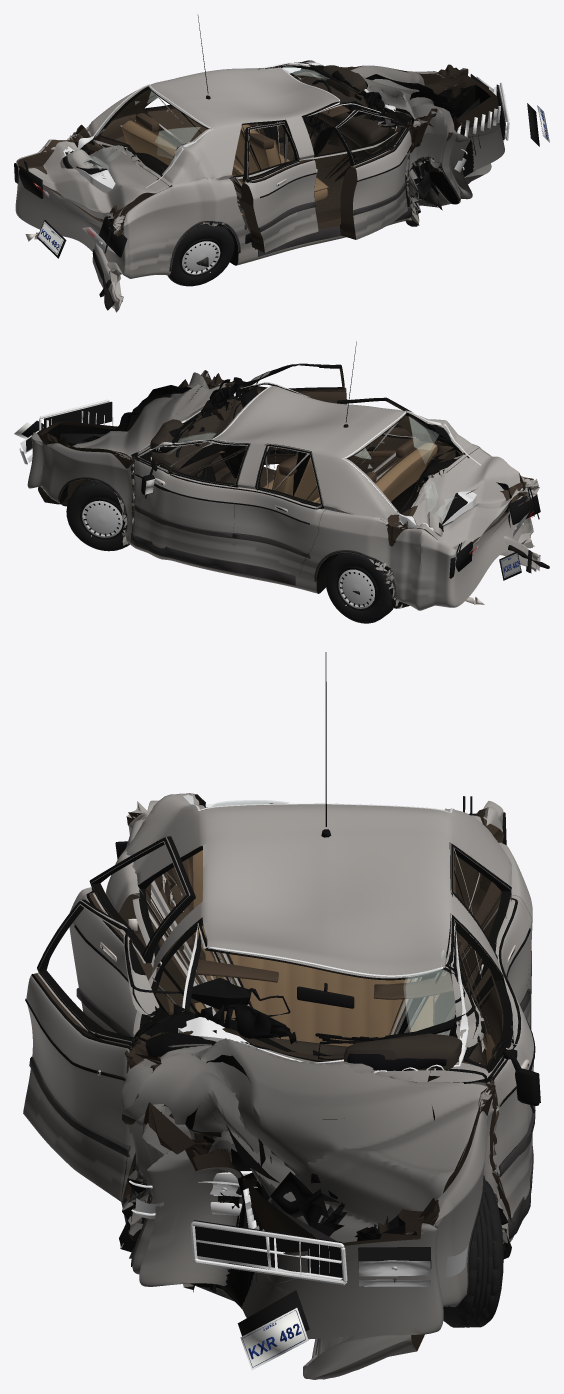
File: sedan87_front_corner_R_d3_lod1.glb
The picture shows the model from 3 angles, top to bottom: view 1: azimuth 30°, elevation 25°; view 2: azimuth 150°, elevation 25°; view 3: azimuth 270°, elevation 25°; orthographic projection. The views are drawn at different scales.
Visible parts, largest first — view 1: Body, Interior, Door_FR, Door_RR, Trunk, Ends, Glass, Hood, Wheel_RR_mesh, Trim, Bumper_R, Trim_FR (+4 smaller); view 2: Body, Door_FL, Interior, Trunk, Door_RL, Hood, Wheel_RL_mesh, Glass, Ends, Trim, Wheel_FL_mesh, Trim_FL (+7 smaller); view 3: Body, Hood, Door_FR, Interior, Ends, Door_FL, Door_RR, Glass, Trim_FR, Trim, Wheel_FL_mesh, Trim_FL (+4 smaller).
Boxes of the visible parts, box(x1,y1,x2,y2) form: Body: box(15, 63, 504, 283); Interior: box(122, 65, 388, 217); Door_FR: box(333, 107, 411, 239); Door_RR: box(239, 122, 318, 252); Trunk: box(28, 136, 169, 219); Ends: box(14, 74, 549, 258); Glass: box(62, 62, 395, 192); Hood: box(338, 65, 491, 184); Wheel_RR_mesh: box(167, 224, 234, 286); Trim: box(169, 14, 460, 271); Bumper_R: box(60, 149, 123, 312); Trim_FR: box(336, 101, 412, 215); Body: box(27, 370, 539, 610); Door_FL: box(131, 440, 250, 560); Interior: box(148, 400, 437, 503); Trunk: box(402, 448, 526, 552); Door_RL: box(230, 443, 325, 577); Hood: box(38, 372, 230, 506); Wheel_RL_mesh: box(325, 552, 393, 623); Glass: box(150, 382, 480, 530); Ends: box(14, 399, 540, 580); Trim: box(58, 341, 396, 601); Wheel_FL_mesh: box(66, 479, 129, 551); Trim_FL: box(134, 419, 249, 538); Body: box(106, 793, 532, 1339); Hood: box(122, 1032, 491, 1379); Door_FR: box(23, 899, 193, 1201); Interior: box(187, 850, 482, 1073); Ends: box(115, 796, 506, 1370); Door_FL: box(428, 914, 533, 1217); Door_RR: box(69, 836, 195, 1035); Glass: box(178, 793, 468, 1066); Trim_FR: box(25, 901, 290, 1157); Trim: box(121, 652, 533, 1293); Wheel_FL_mesh: box(443, 1179, 503, 1327); Trim_FL: box(318, 915, 540, 1177).
Bounding box in the file's own units: 4.77 × 2.17 × 2.16.
Materials: 32 (5 with a texture image).
